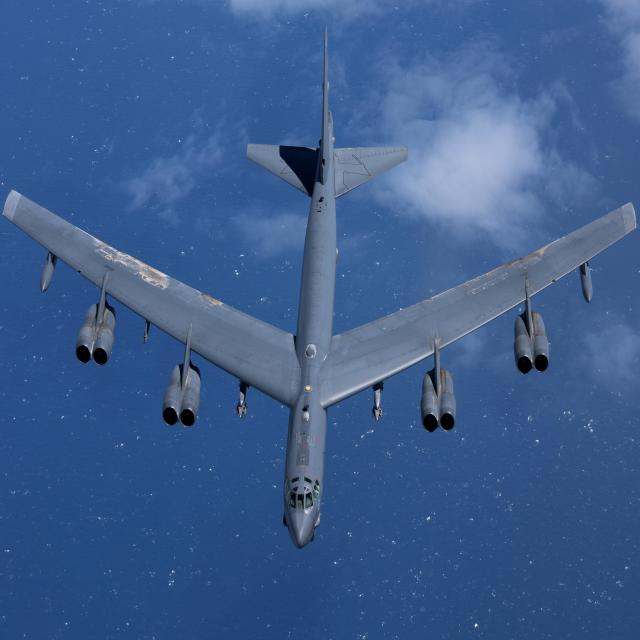B52: (0, 31, 640, 578)
